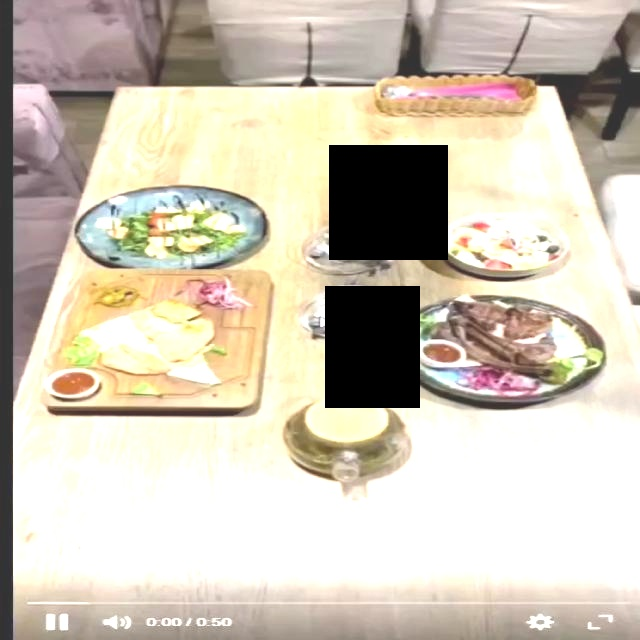meat: (42, 270, 268, 409), (420, 293, 608, 403)
salad: (73, 184, 266, 267), (437, 211, 571, 276)
tea: (282, 396, 407, 479)
